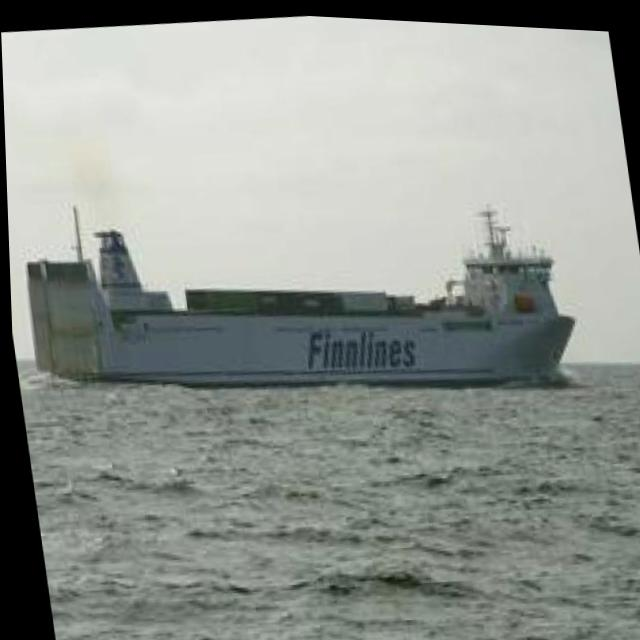ship2: (23, 201, 575, 387)
